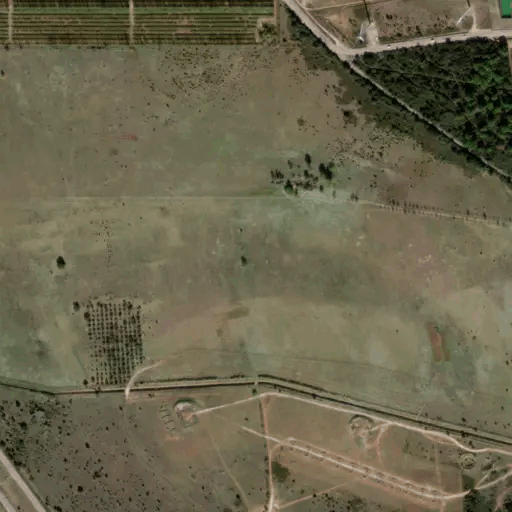wt: (349, 1, 376, 52), (446, 1, 477, 38)
